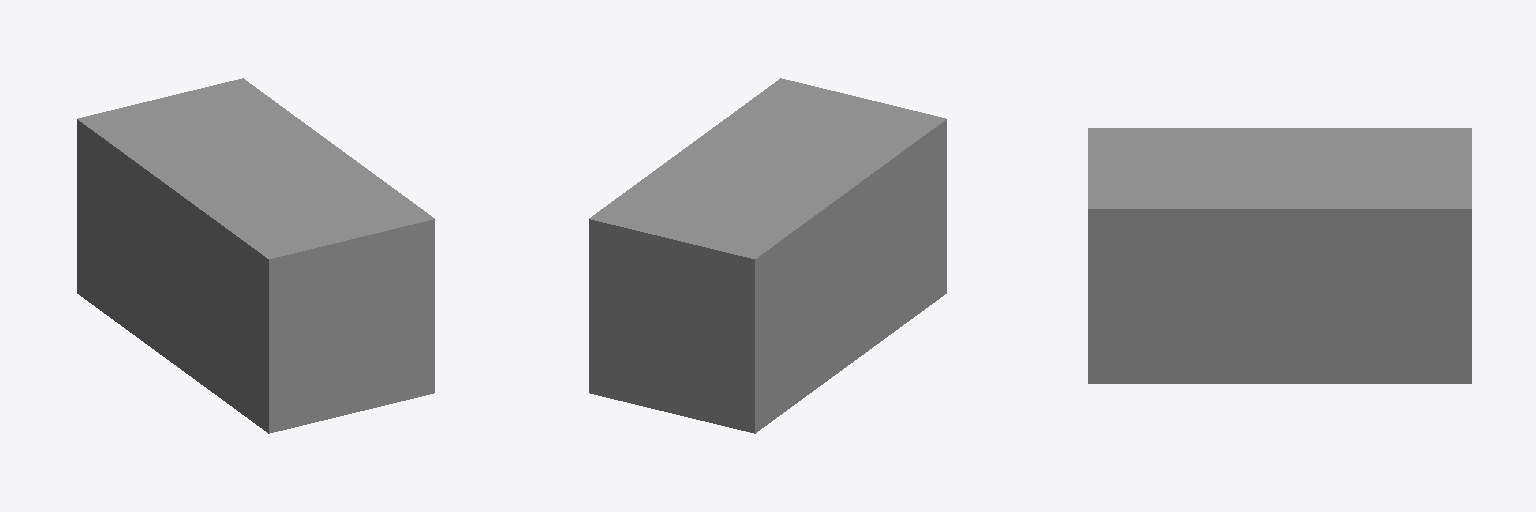
The model's file is Bridge.obj.
3 views of the same model, side by side, from view 1: azimuth 30°, elevation 25°; view 2: azimuth 150°, elevation 25°; view 3: azimuth 270°, elevation 25° (orthographic).
Visible parts, largest first — view 1: Cube; view 2: Cube; view 3: Cube.
Part boxes in pixels (bbox=[...]): Cube: bbox=[77, 78, 434, 433]; Cube: bbox=[589, 78, 946, 433]; Cube: bbox=[1088, 128, 1471, 383].
Size of the model in its own units: 2 by 2 by 4.